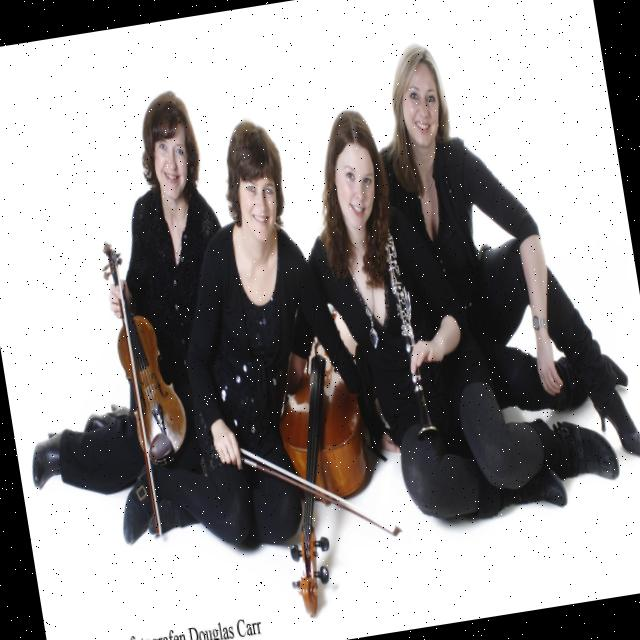cello: (249, 293, 404, 618)
clarinet: (378, 208, 440, 444)
violin: (100, 233, 194, 468)
